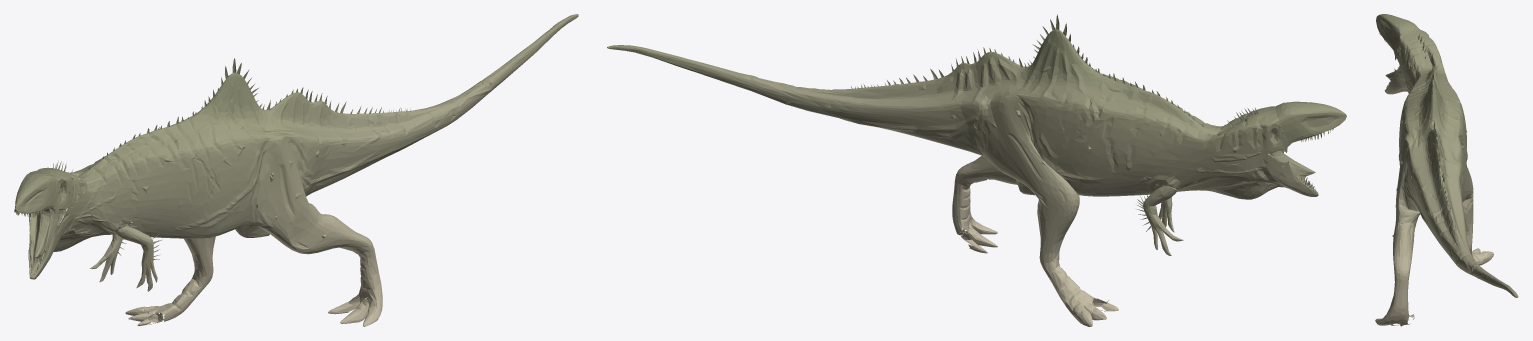
The model's file is concavenator.glb.
3 views of the same model, side by side, from view 1: azimuth 30°, elevation 25°; view 2: azimuth 150°, elevation 25°; view 3: azimuth 270°, elevation 25° (orthographic). The views are drawn at different scales.
Parts seen in each view (by area): view 1: world; view 2: world; view 3: world.
Boxes of the visible parts, x1,y1,x2,y2 form: world: (14, 14, 578, 326); world: (607, 14, 1346, 326); world: (1375, 14, 1518, 326).
Size of the model in its own units: 10 by 3.98 by 2.35.
